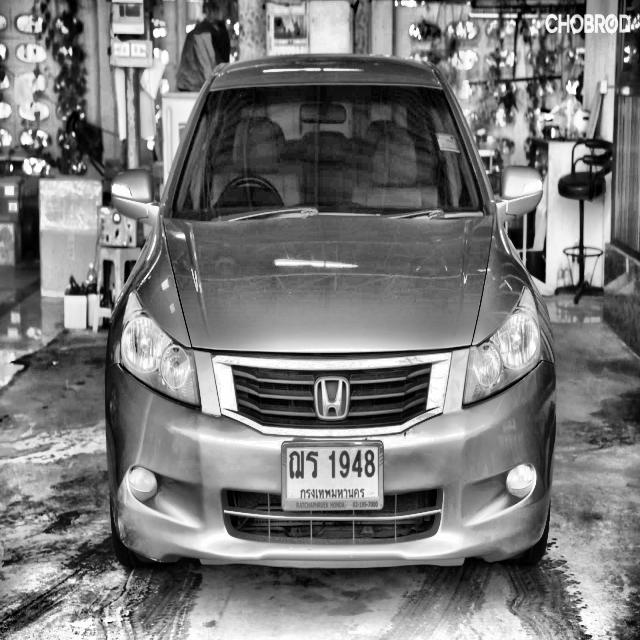license-plate: (280, 436, 386, 512)
